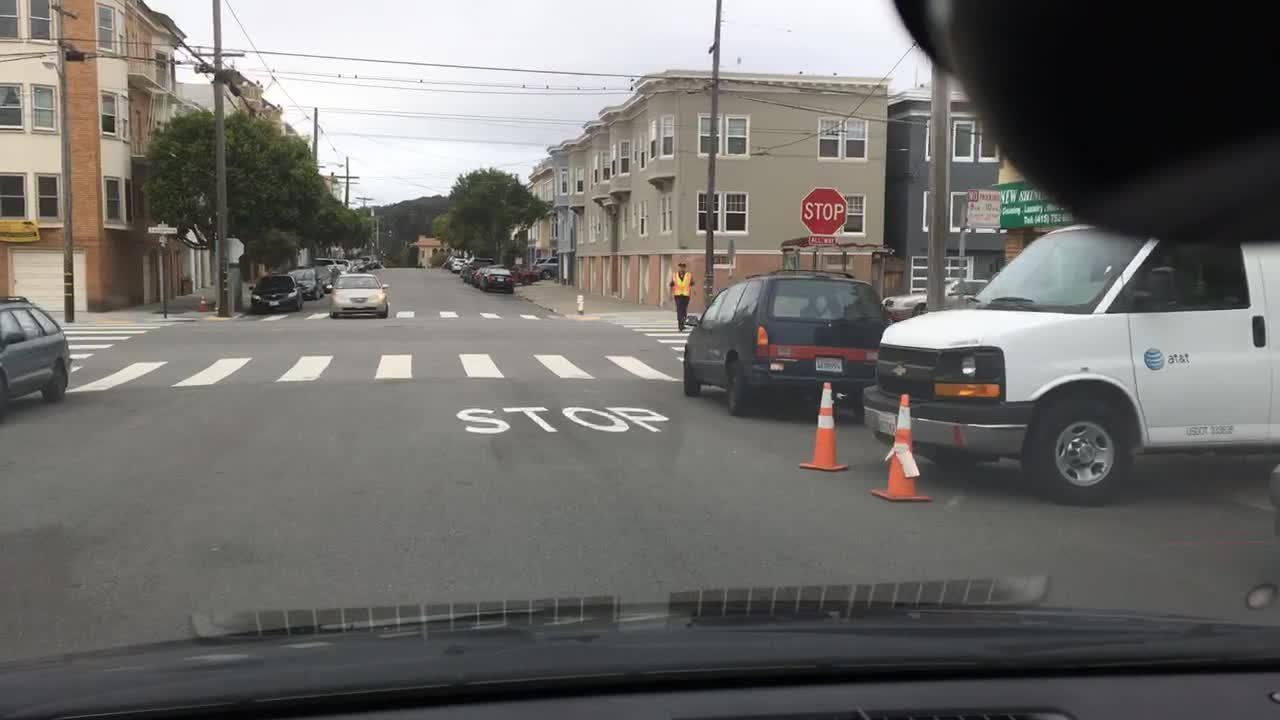chevrolet: (887, 358, 918, 382)
